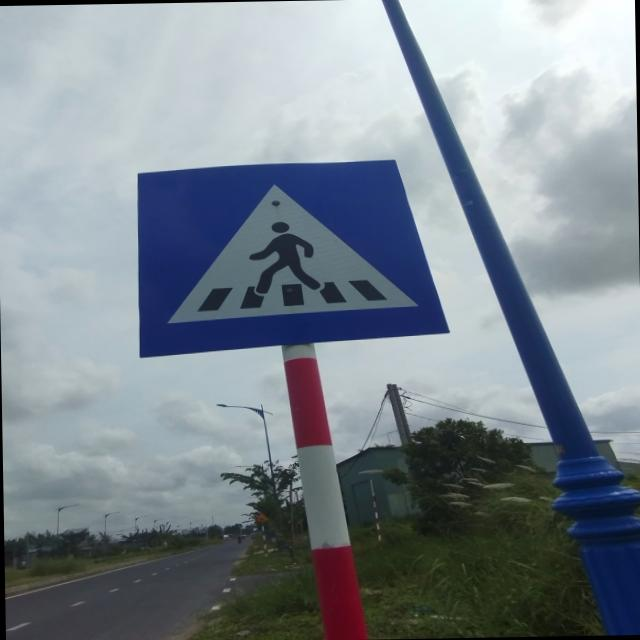Giao_Nhau_Duong_Uu_Tien: (137, 158, 448, 360)
